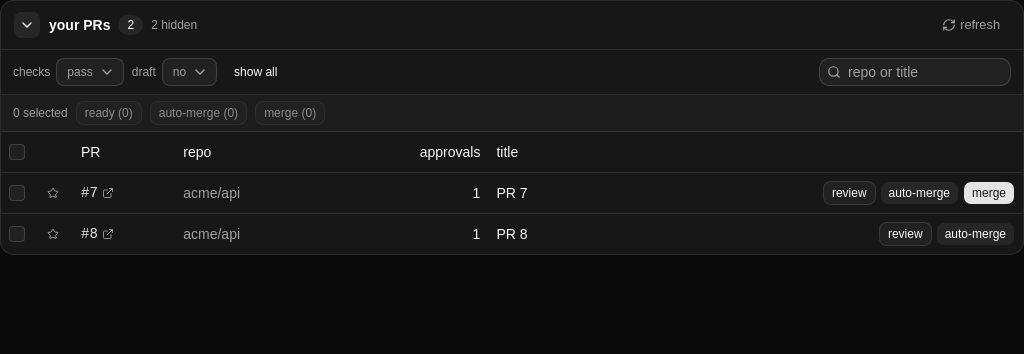
it: PrTable › filters as pr ls does, until told to show all
Expected: the text "PR 7" is shown, top-left (488, 172), bottom-right (587, 213)
Expected: the text "PR 8" is shown, top-left (488, 213), bottom-right (587, 254)
Click the button "show all" at (256, 72), box top-left (225, 60), bottom-right (286, 84)
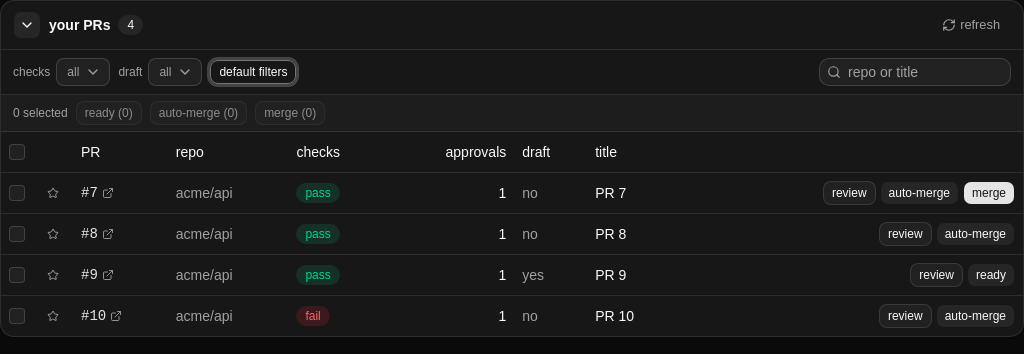
Now the text "PR 9" is shown, box top-left (587, 254), bottom-right (678, 295)
Now the text "PR 10" is shown, box top-left (587, 295), bottom-right (678, 336)
Type "PR 1" into the search field at (915, 72), box top-left (819, 58), bottom-right (1011, 86)
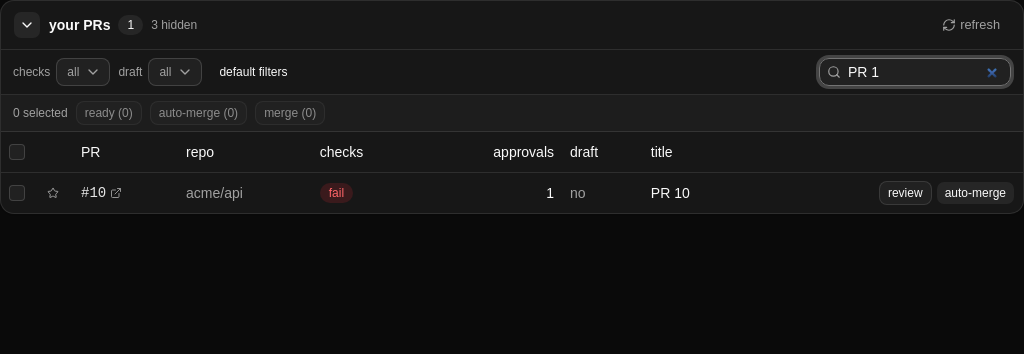
Now the text "PR 10" is shown, box top-left (643, 172), bottom-right (744, 212)
Now the text "PR 9" is gone
